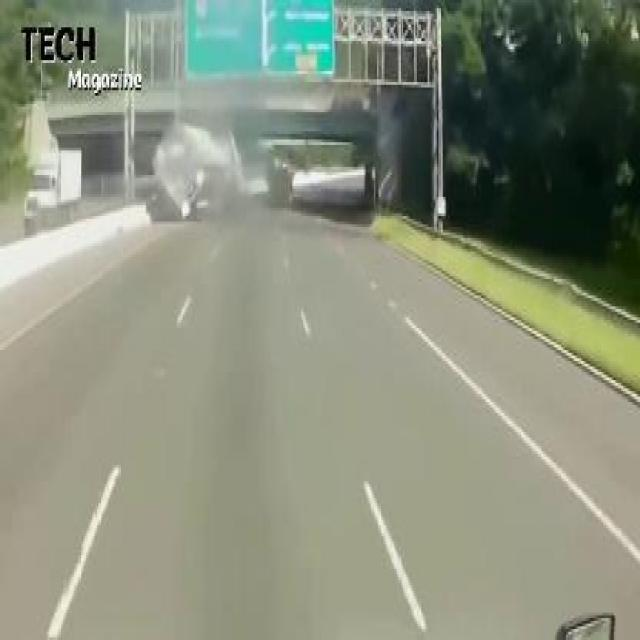accident: (135, 110, 248, 213), (266, 136, 377, 222)
